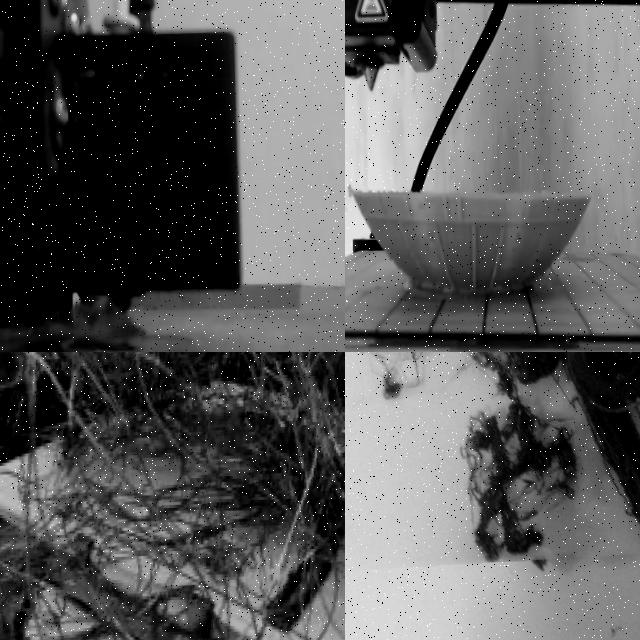spaghetti: (0, 352, 345, 640), (345, 352, 640, 573), (72, 295, 142, 348)
